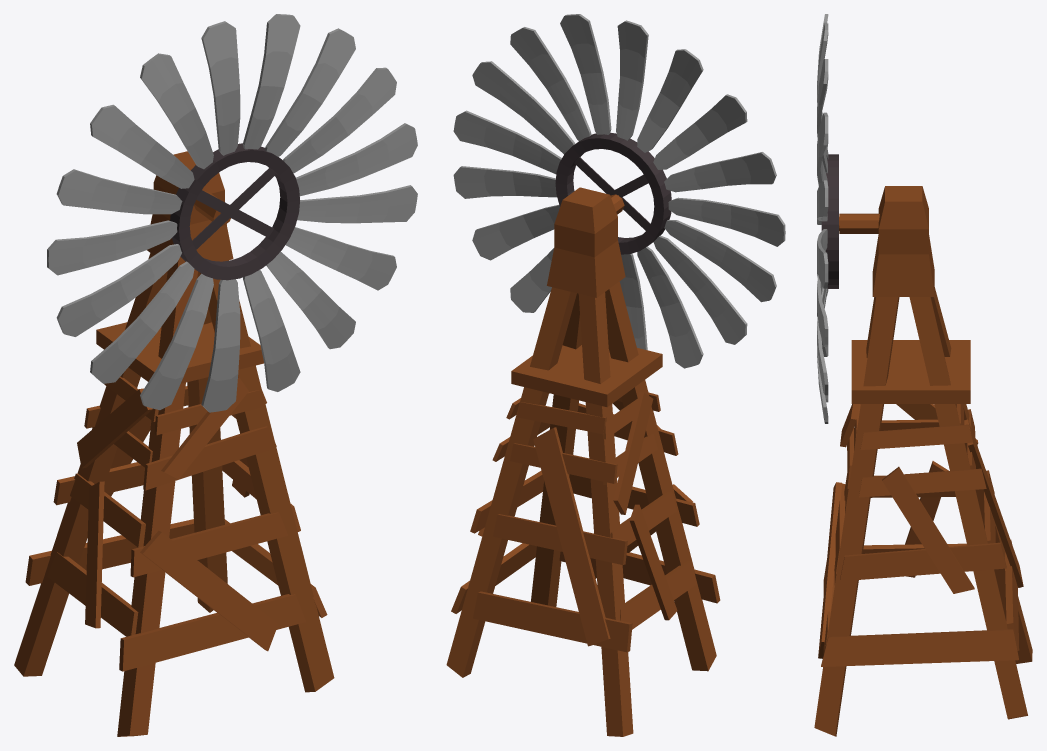
The model's file is windmill.fbx.
3 views of the same model, side by side, from view 1: azimuth 30°, elevation 25°; view 2: azimuth 150°, elevation 25°; view 3: azimuth 270°, elevation 25° (orthographic). The views are drawn at different scales.
Visible parts, largest first — view 1: windmill; view 2: windmill; view 3: windmill.
Boxes of the visible parts, x1=… form: windmill: x1=14, y1=14, x2=417, y2=736; windmill: x1=446, y1=14, x2=785, y2=736; windmill: x1=814, y1=14, x2=1032, y2=736.
Bounding box in the file's own units: 619 × 1127 × 330.
